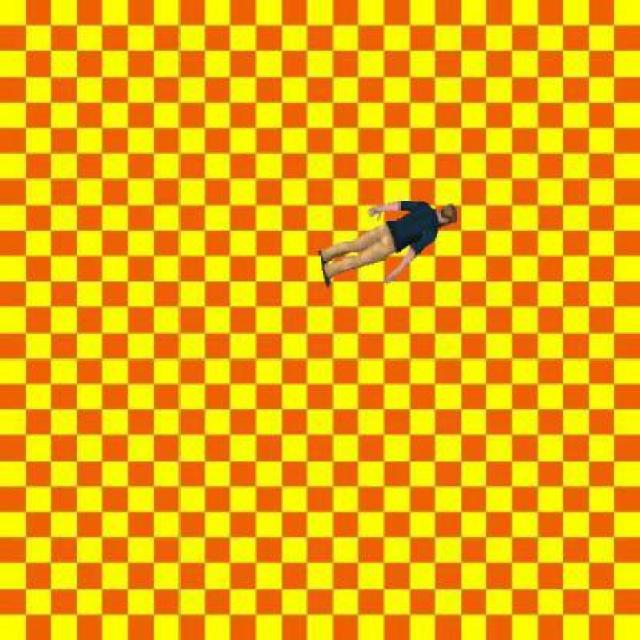Person: (317, 197, 458, 291)
